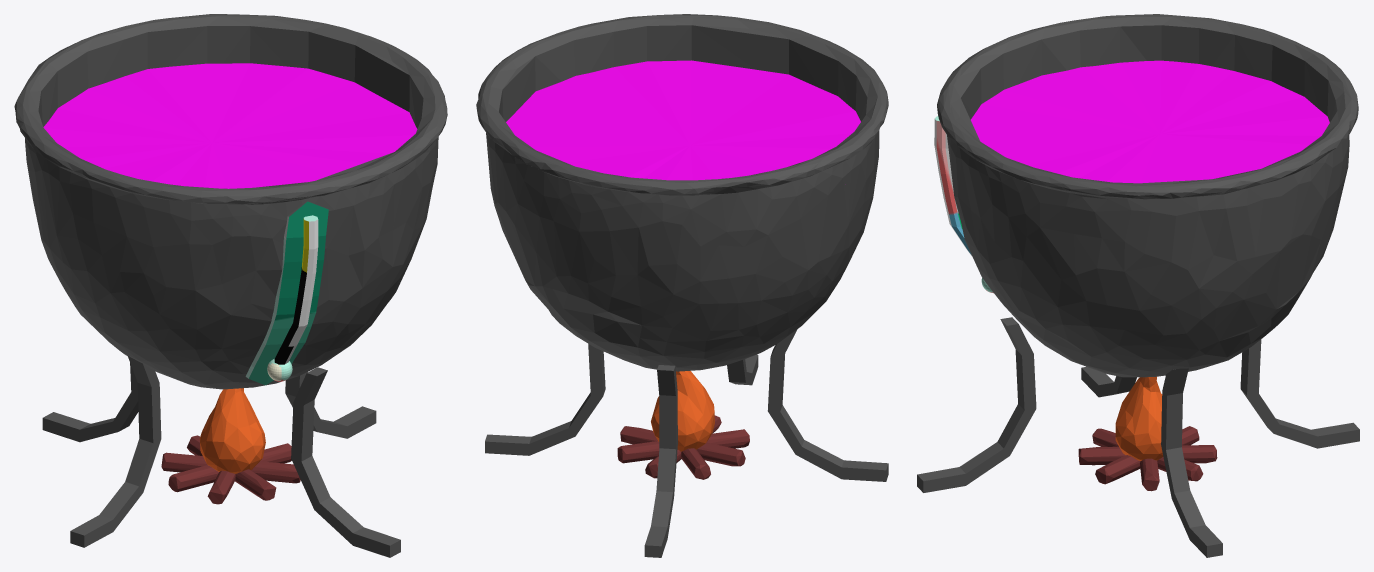
Rendered from Chaudron.fbx.
The picture shows the model from 3 angles, left to right: view 1: azimuth 30°, elevation 25°; view 2: azimuth 150°, elevation 25°; view 3: azimuth 270°, elevation 25°; orthographic projection. The views are drawn at different scales.
Visible parts, largest first — view 1: CHaudron; view 2: CHaudron; view 3: CHaudron.
Part boxes in pixels (x1,y1,x2,y2): CHaudron: (14,14,447,557); CHaudron: (476,14,888,557); CHaudron: (917,14,1359,557).
Size of the model in its own units: 185 by 181 by 194.
